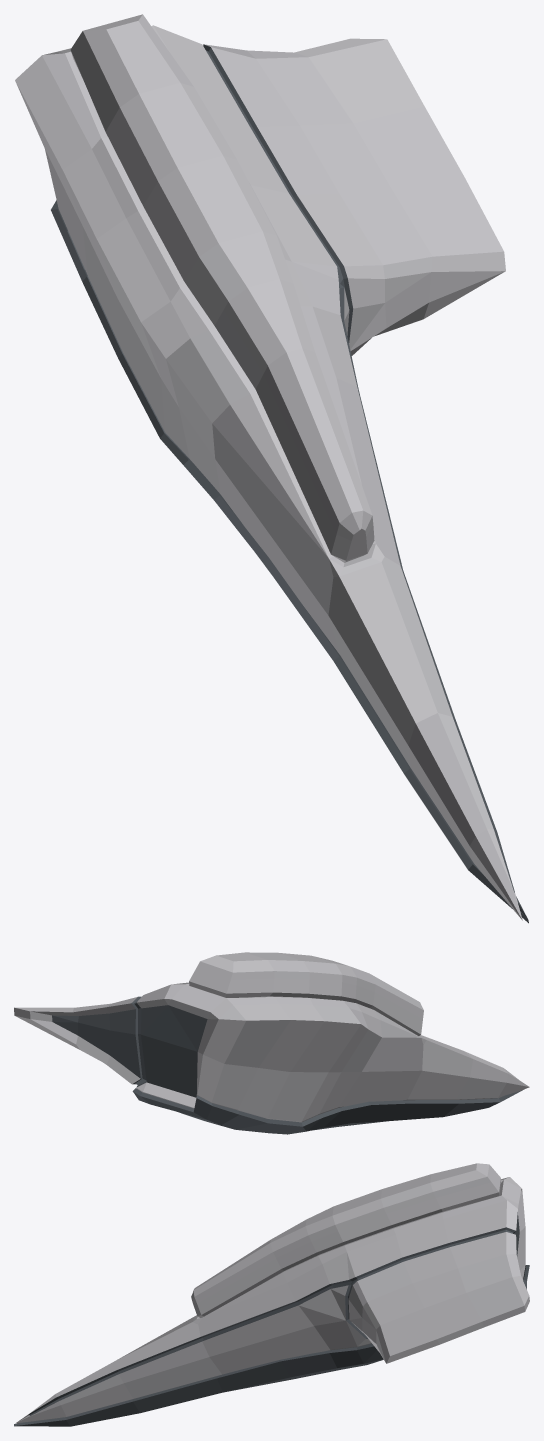
Rendered from Fighter_03_Wing_Bottom_Left.fbx.
3 views of the same model, one above another, from view 1: azimuth 30°, elevation 25°; view 2: azimuth 150°, elevation 25°; view 3: azimuth 270°, elevation 25° (orthographic). The views are drawn at different scales.
Parts seen in each view (by area): view 1: Fighter_03_Wing_Bottom_Left; view 2: Fighter_03_Wing_Bottom_Left; view 3: Fighter_03_Wing_Bottom_Left.
Part boxes in pixels (x1=…): Fighter_03_Wing_Bottom_Left: x1=15, y1=14, x2=528, y2=923; Fighter_03_Wing_Bottom_Left: x1=14, y1=952, x2=529, y2=1134; Fighter_03_Wing_Bottom_Left: x1=14, y1=1163, x2=529, y2=1426.
Size of the model in its own units: 354 by 440 by 752.
Materials: 2 (2 with a texture image).
